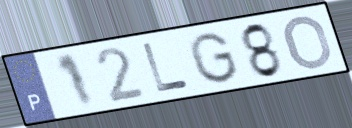1: (54, 50, 99, 111)
2: (94, 45, 148, 105)
8: (238, 19, 284, 81)
G: (186, 30, 241, 85)
L: (140, 41, 192, 94)
O: (283, 13, 336, 71)
